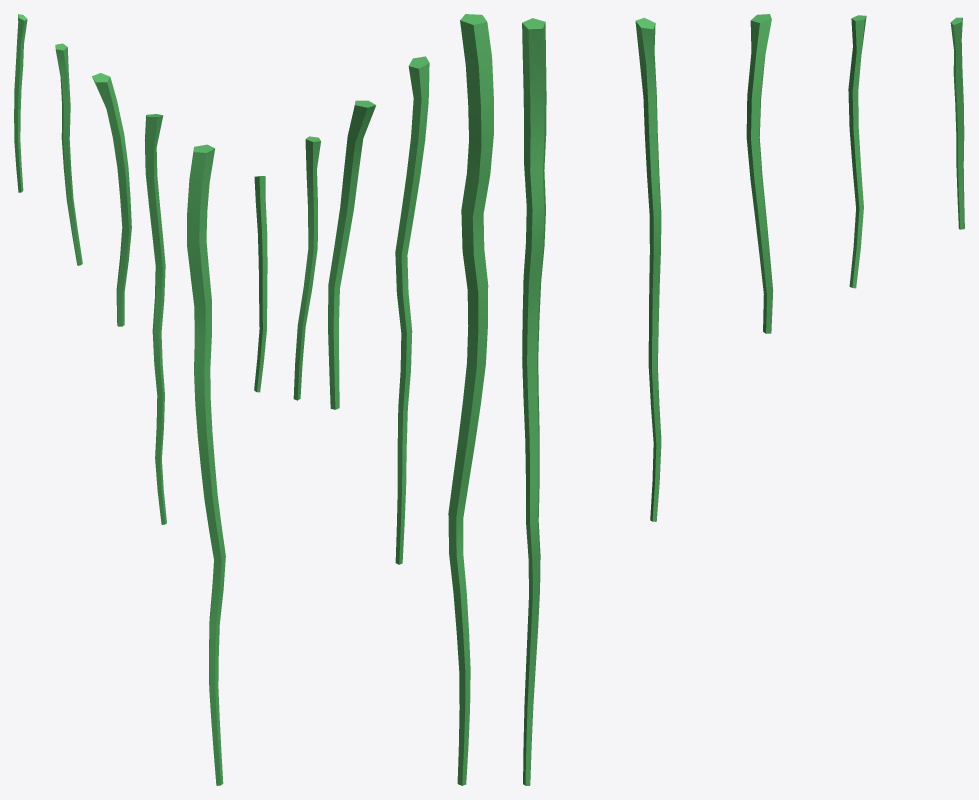
The model's file is roots_solos_B.fbx.
The picture shows the model from 3 angles, left to right: view 1: azimuth 30°, elevation 25°; view 2: azimuth 150°, elevation 25°; view 3: azimuth 270°, elevation 25°; orthographic projection. The views are drawn at different scales.
Parts seen in each view (by area): view 1: roots_solos_B_A, roots_solos_B_B, roots_solos_B_C, roots_solos_B_D, roots_solos_B_E; view 2: roots_solos_B_A, roots_solos_B_B, roots_solos_B_C, roots_solos_B_D, roots_solos_B_E; view 3: roots_solos_B_A, roots_solos_B_B, roots_solos_B_C, roots_solos_B_D, roots_solos_B_E.
Part boxes in pixels (left/top/right/bottom): roots_solos_B_A: left=187, top=144, right=225, bottom=785; roots_solos_B_B: left=144, top=114, right=166, bottom=524; roots_solos_B_C: left=92, top=73, right=131, bottom=326; roots_solos_B_D: left=55, top=43, right=82, bottom=265; roots_solos_B_E: left=14, top=14, right=27, bottom=192; roots_solos_B_A: left=448, top=14, right=493, bottom=785; roots_solos_B_B: left=395, top=56, right=429, bottom=564; roots_solos_B_C: left=328, top=100, right=376, bottom=409; roots_solos_B_D: left=293, top=136, right=320, bottom=400; roots_solos_B_E: left=254, top=176, right=267, bottom=392; roots_solos_B_A: left=522, top=18, right=546, bottom=785; roots_solos_B_B: left=635, top=17, right=661, bottom=521; roots_solos_B_C: left=746, top=14, right=773, bottom=333; roots_solos_B_D: left=848, top=15, right=866, bottom=288; roots_solos_B_E: left=950, top=17, right=964, bottom=229.
Bounding box in the file's own units: 26.62 × 408 × 216.
